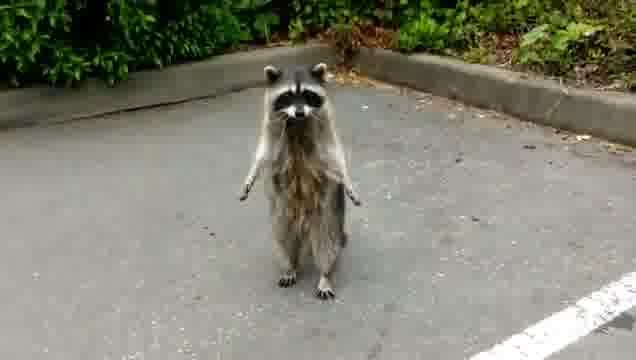raccoon: (236, 63, 365, 309)
